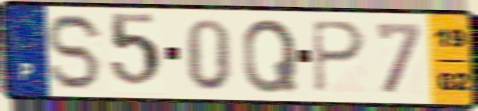0: (182, 17, 234, 93)
5: (106, 12, 165, 95)
7: (373, 19, 424, 97)
P: (309, 18, 368, 96)
Q: (241, 16, 301, 96)
S: (45, 11, 106, 93)
